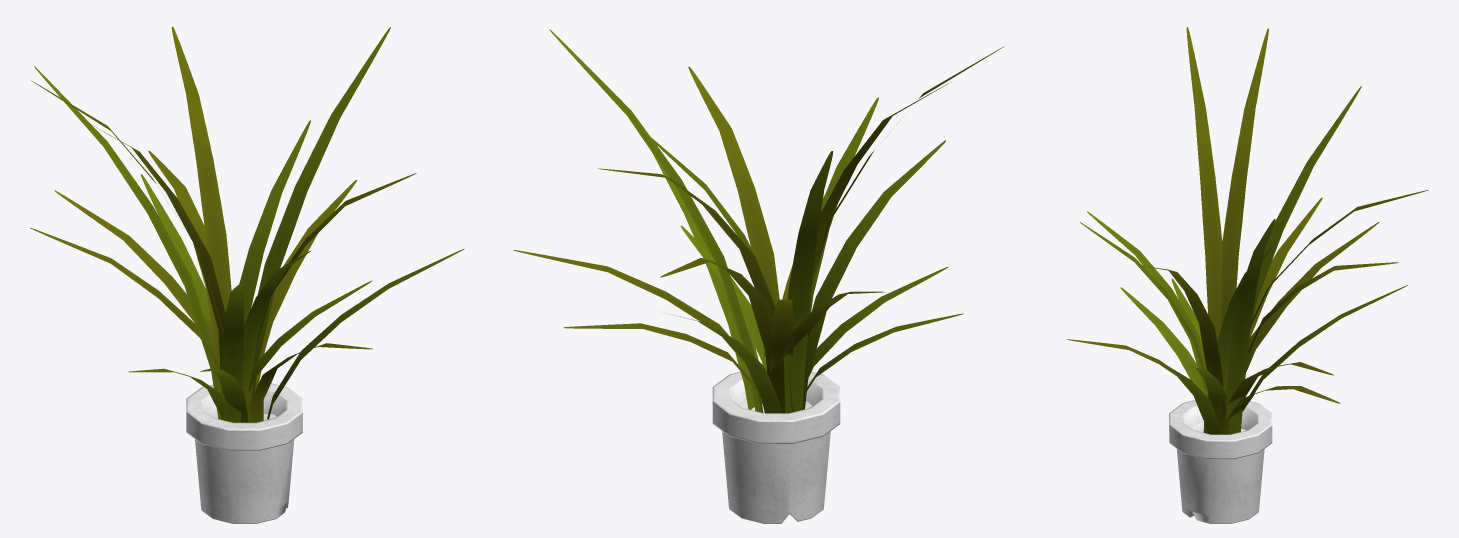
The model's file is Plant_C.fbx.
3 views of the same model, side by side, from view 1: azimuth 30°, elevation 25°; view 2: azimuth 150°, elevation 25°; view 3: azimuth 270°, elevation 25° (orthographic). The views are drawn at different scales.
Parts seen in each view (by area): view 1: U_Plant_C; view 2: U_Plant_C; view 3: U_Plant_C.
Boxes of the visible parts, box(x1,y1,x2,y2) form: U_Plant_C: box(30, 26, 464, 523); U_Plant_C: box(513, 29, 1004, 523); U_Plant_C: box(1067, 27, 1428, 523).
Bounding box in the file's own units: 80.24 × 88.57 × 77.39.
Materials: 3 (3 with a texture image).
